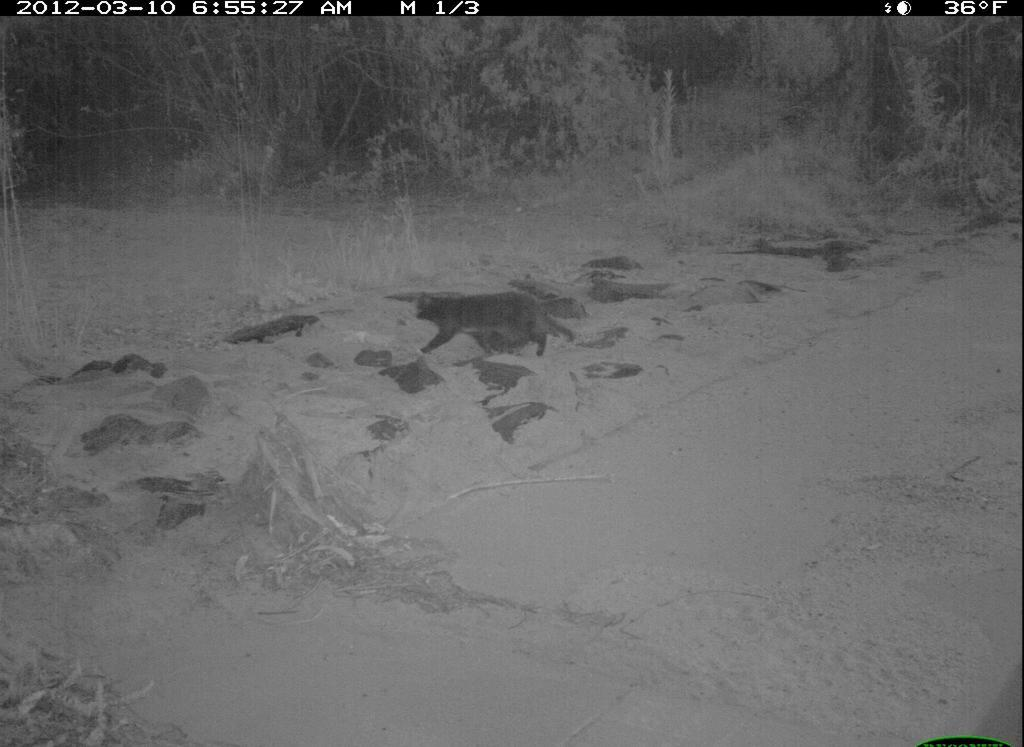cat: (404, 263, 577, 365)
